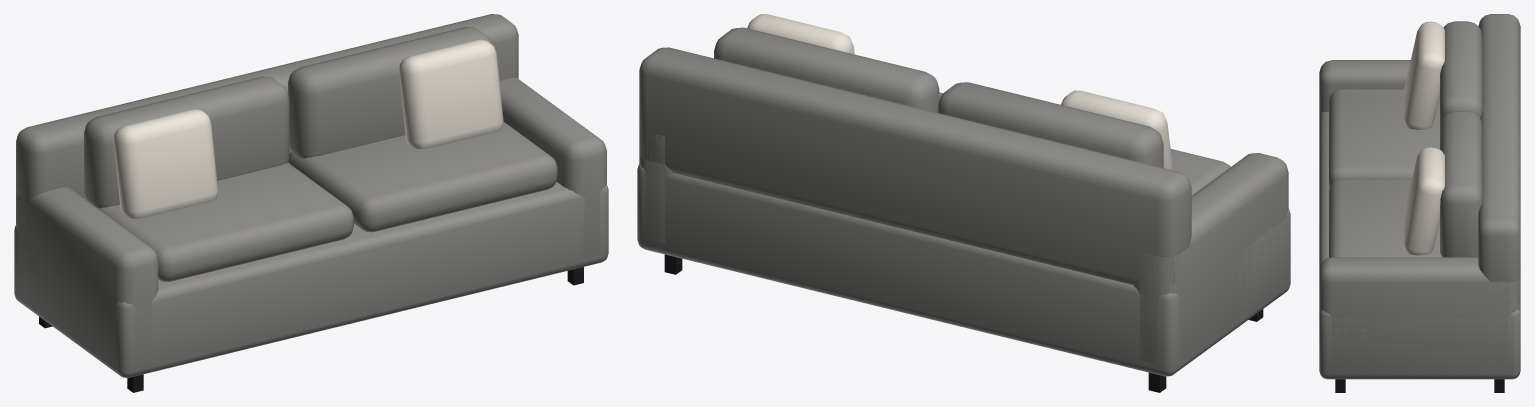
File: fur_sofa_grey.glb
The picture shows the model from 3 angles, left to right: view 1: azimuth 30°, elevation 25°; view 2: azimuth 150°, elevation 25°; view 3: azimuth 270°, elevation 25°; orthographic projection. The views are drawn at different scales.
Parts seen in each view (by area): view 1: FUR_sofa_grey; view 2: FUR_sofa_grey; view 3: FUR_sofa_grey.
Boxes of the visible parts, <box> form: FUR_sofa_grey: <box>14,14,608,392</box>; FUR_sofa_grey: <box>637,14,1290,392</box>; FUR_sofa_grey: <box>1319,14,1520,392</box>.
Size of the model in its own units: 2.4 by 1.01 by 0.95.
1 material, 1 textured.
